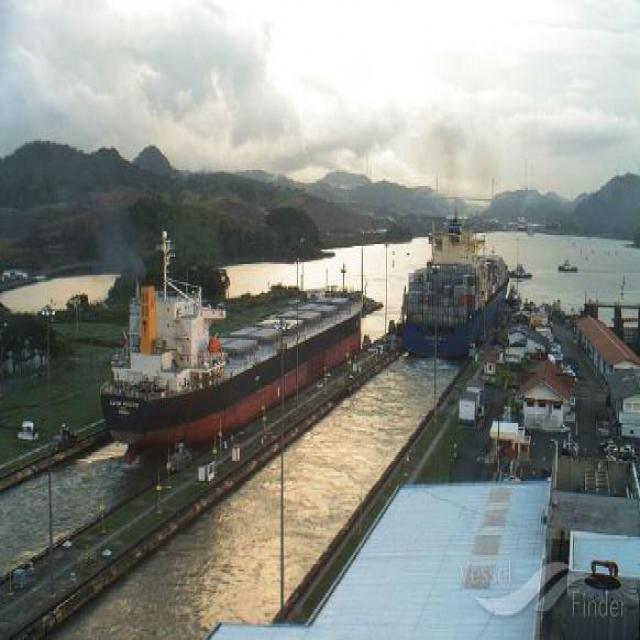Bulk Carrier: (91, 242, 390, 448)
